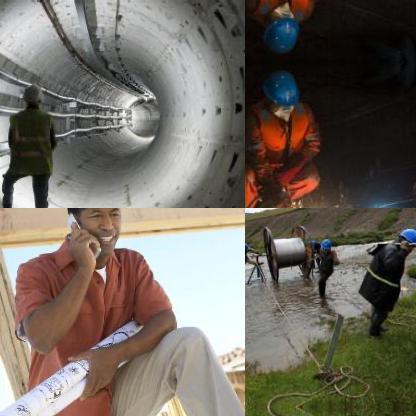Helmet: (57, 208, 130, 258), (257, 66, 301, 116), (257, 4, 301, 54), (22, 82, 42, 108), (395, 224, 415, 250), (318, 236, 330, 252), (245, 238, 249, 253)
